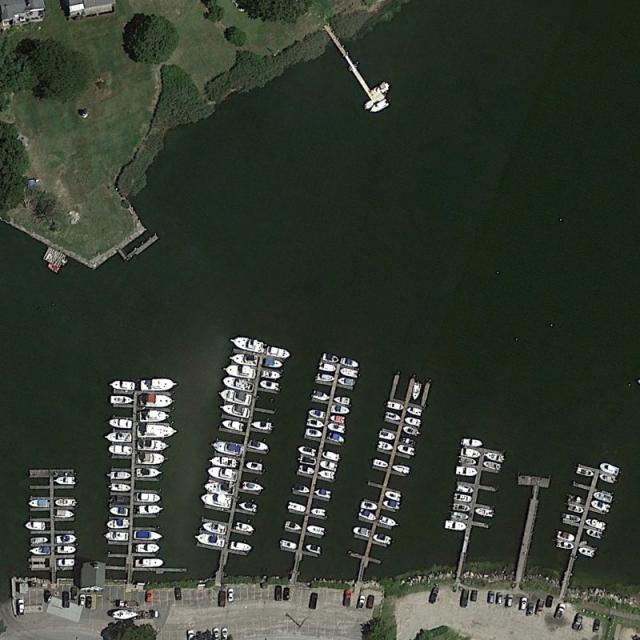vehicle: (460, 589, 470, 608), (555, 603, 566, 619), (573, 613, 583, 630), (429, 588, 439, 604), (535, 599, 545, 615), (366, 594, 376, 609), (62, 591, 70, 609), (218, 590, 226, 608), (310, 593, 318, 610), (16, 599, 24, 615), (174, 586, 182, 601), (274, 586, 282, 601), (344, 590, 351, 607), (70, 587, 78, 601), (357, 595, 365, 609), (527, 602, 534, 617), (519, 598, 527, 611), (44, 590, 51, 604), (227, 588, 234, 602), (593, 619, 600, 633), (470, 590, 478, 602), (85, 597, 92, 610), (145, 590, 152, 603), (283, 587, 290, 600), (487, 591, 494, 604), (496, 592, 503, 605), (506, 594, 513, 607), (78, 594, 85, 606), (222, 626, 228, 640), (213, 627, 219, 640), (546, 596, 553, 607), (187, 630, 194, 640)
